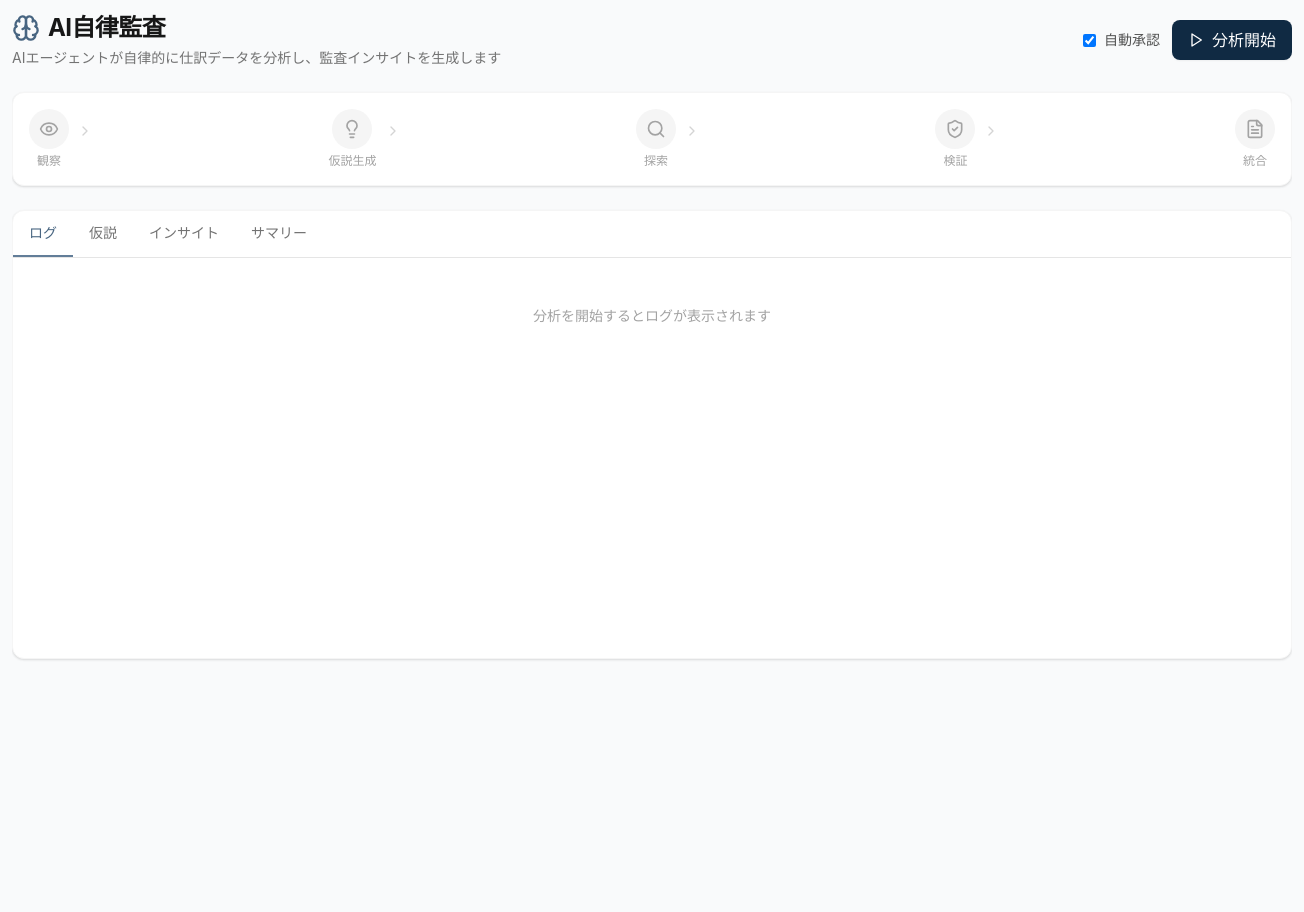
Test: AutonomousAuditPage › switches to summary tab and shows empty message
The width and height of the screenshot is (1304, 912).
Step 1. Click the button "サマリー" → click(279, 234), box left=235, top=211, right=323, bottom=257
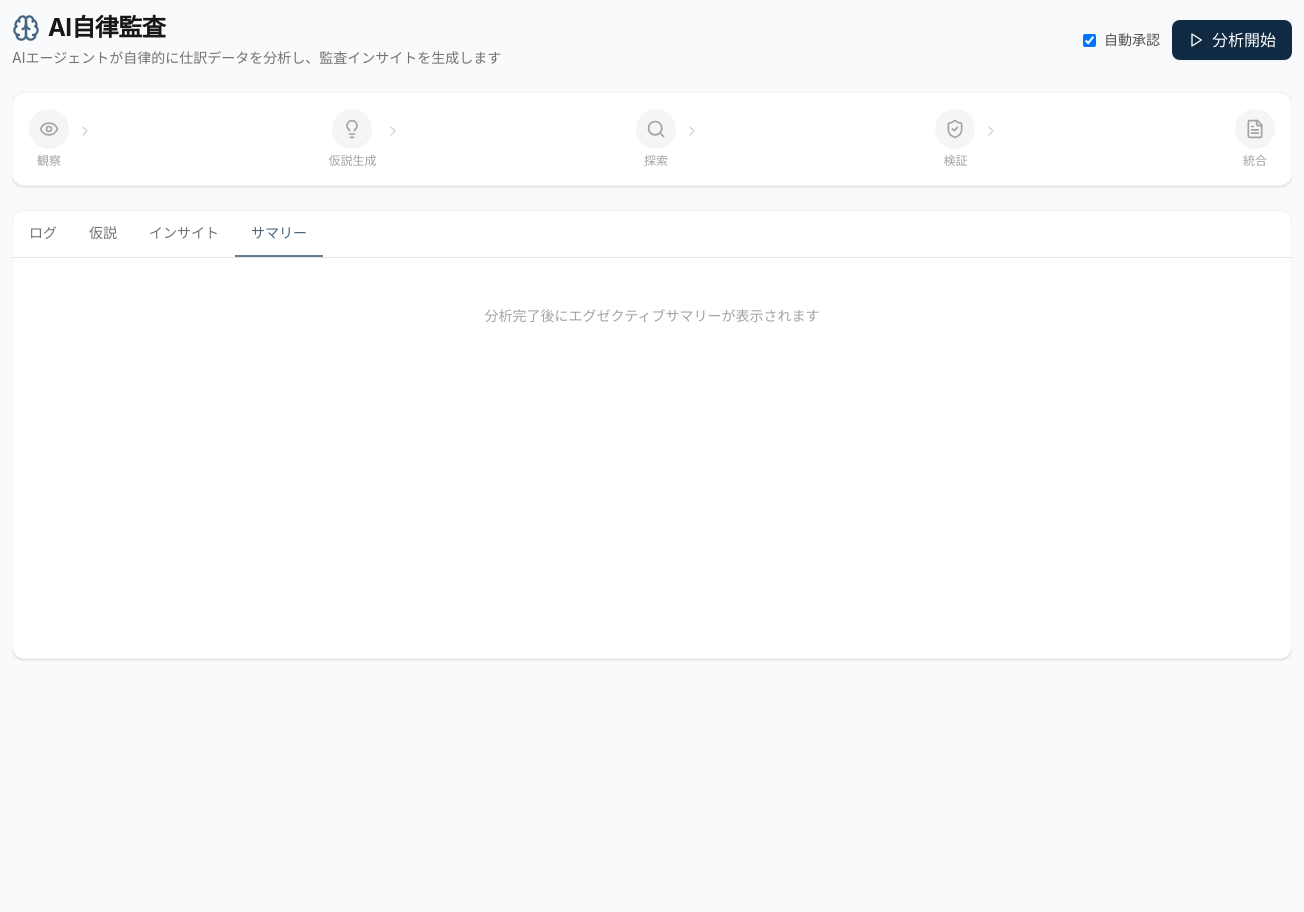
Check: the text "分析完了後にエグゼクティブサマリーが表示されます" is shown, box left=484, top=307, right=820, bottom=324
